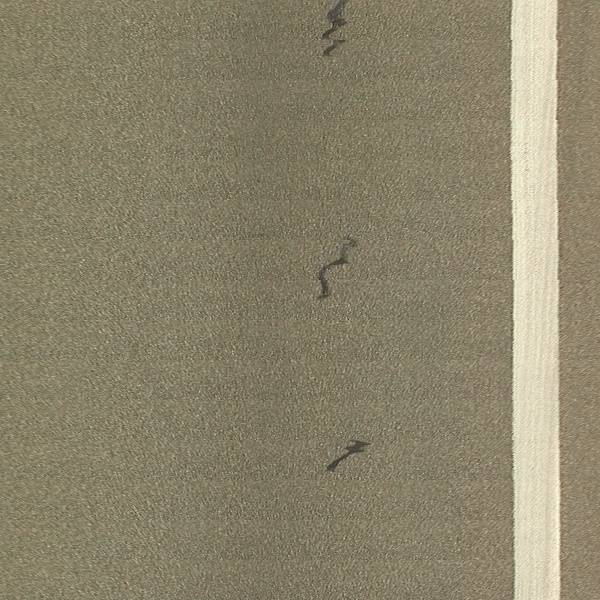road_damage: (309, 245, 355, 306), (321, 434, 377, 480), (318, 1, 352, 63)
